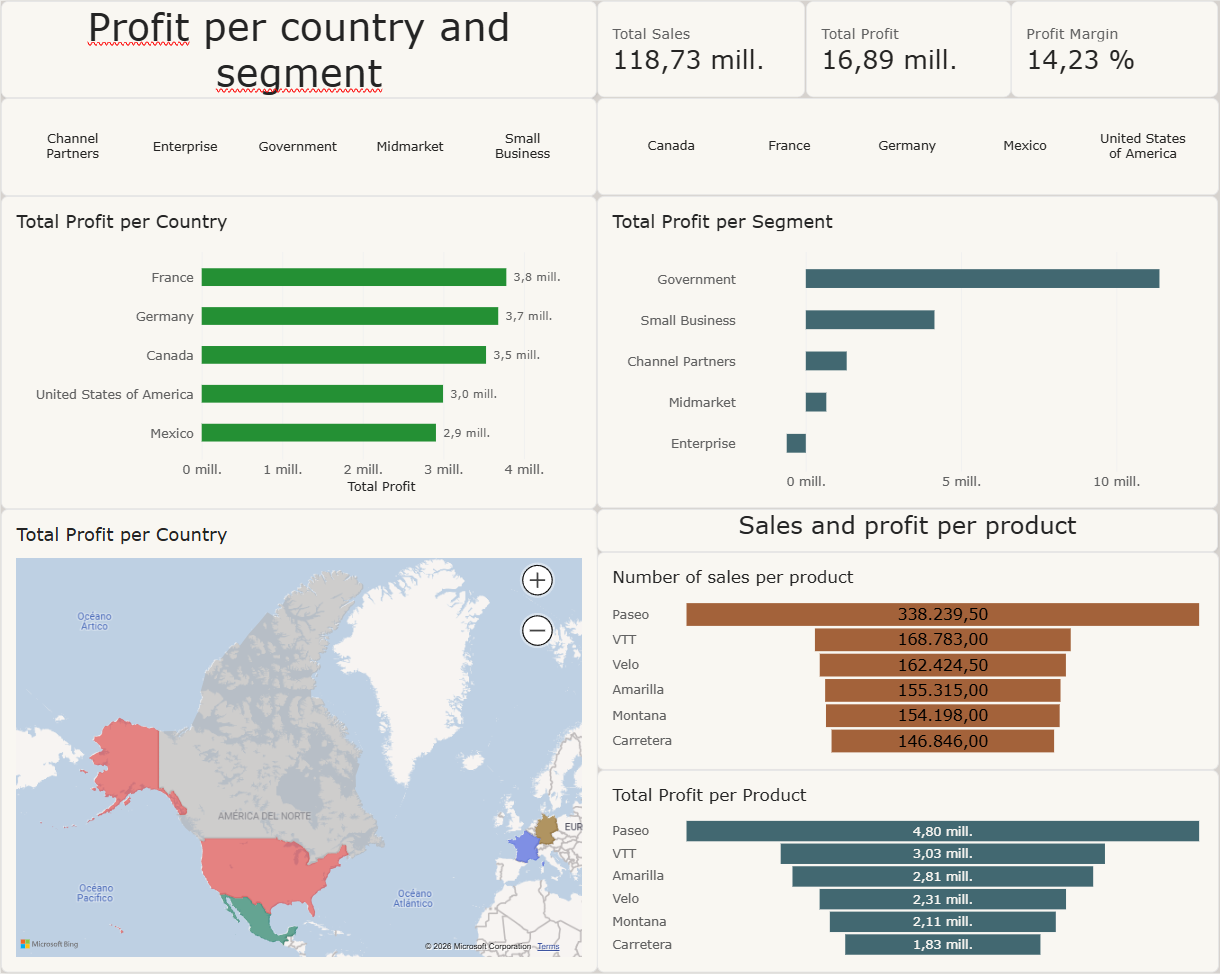

This screenshot's page, from the dashboard's own definition file:
{"tool":"powerbi","page":{"name":"Página 3","canvas":[1920,1080],"ordinal":2},"visuals":[{"type":"cardVisual","fields":{"Data":["financials.Total Sales"]},"box":[662.4,0,231.6,107.9],"z":0},{"type":"cardVisual","fields":{"Data":["financials.Profit Margin"]},"box":[1122.4,0,230.6,107.9],"z":1000},{"type":"cardVisual","fields":{"Data":["financials.Total Profit"]},"box":[894,0,228.5,107.9],"z":2000},{"type":"clusteredBarChart","fields":{"Category":["financials.Segment"],"Y":["financials.Total Profit"]},"box":[662.6,216.9,690.1,347.5],"z":3000},{"type":"clusteredBarChart","fields":{"Category":["financials.Country"],"Y":["financials.Total Profit"]},"box":[0,216.9,662.4,347.9],"z":4000},{"type":"advancedSlicerVisual","fields":{"Values":["financials.Country"]},"box":[662.4,107.9,690.7,107.9],"z":5000},{"type":"textbox","box":[0,0,662.4,107.9],"z":6000},{"type":"advancedSlicerVisual","fields":{"Values":["financials.Segment"]},"box":[0,107.9,662.4,109],"z":7000},{"type":"filledMap","fields":{"Category":["financials.Country"]},"box":[0,564.4,662.6,515.3],"z":7001},{"type":"textbox","box":[662.6,564.4,690.1,48.1],"z":7002},{"type":"funnel","title":"Number of sales per product","fields":{"Category":["financials.Product"],"Y":["Sum(financials.Units Sold)"]},"box":[662.6,612.5,691,242.5],"z":7003},{"type":"funnel","title":"Total Profit per Product","fields":{"Category":["financials.Product"],"Y":["financials.Total Profit"]},"box":[662.6,855,691,224.8],"z":7004}]}

Visuals, with their boxes on the page's 1920x1080 design canvas (x1, y1, x2, y2). These are canvas units, not pixel positions in the 1220x974 screenshot, which may show the page scaled, cropped or inside an application window:
cardVisual - financials.Total Sales: (x1=662, y1=0, x2=894, y2=108)
cardVisual - financials.Profit Margin: (x1=1122, y1=0, x2=1353, y2=108)
cardVisual - financials.Total Profit: (x1=894, y1=0, x2=1122, y2=108)
clusteredBarChart - financials.Segment x financials.Total Profit: (x1=663, y1=217, x2=1353, y2=564)
clusteredBarChart - financials.Country x financials.Total Profit: (x1=0, y1=217, x2=662, y2=565)
advancedSlicerVisual - financials.Country: (x1=662, y1=108, x2=1353, y2=216)
textbox: (x1=0, y1=0, x2=662, y2=108)
advancedSlicerVisual - financials.Segment: (x1=0, y1=108, x2=662, y2=217)
filledMap - financials.Country: (x1=0, y1=564, x2=663, y2=1080)
textbox: (x1=663, y1=564, x2=1353, y2=612)
"Number of sales per product" funnel: (x1=663, y1=612, x2=1354, y2=855)
"Total Profit per Product" funnel: (x1=663, y1=855, x2=1354, y2=1080)
